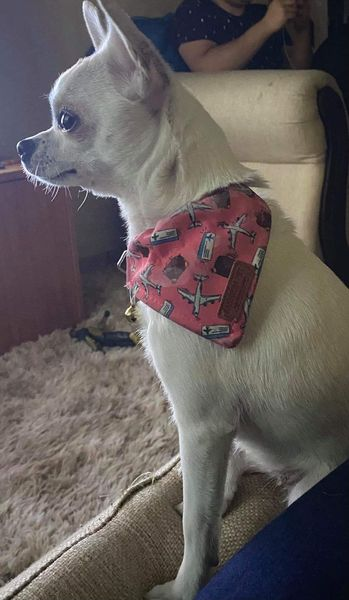dog: (11, 1, 342, 595)
